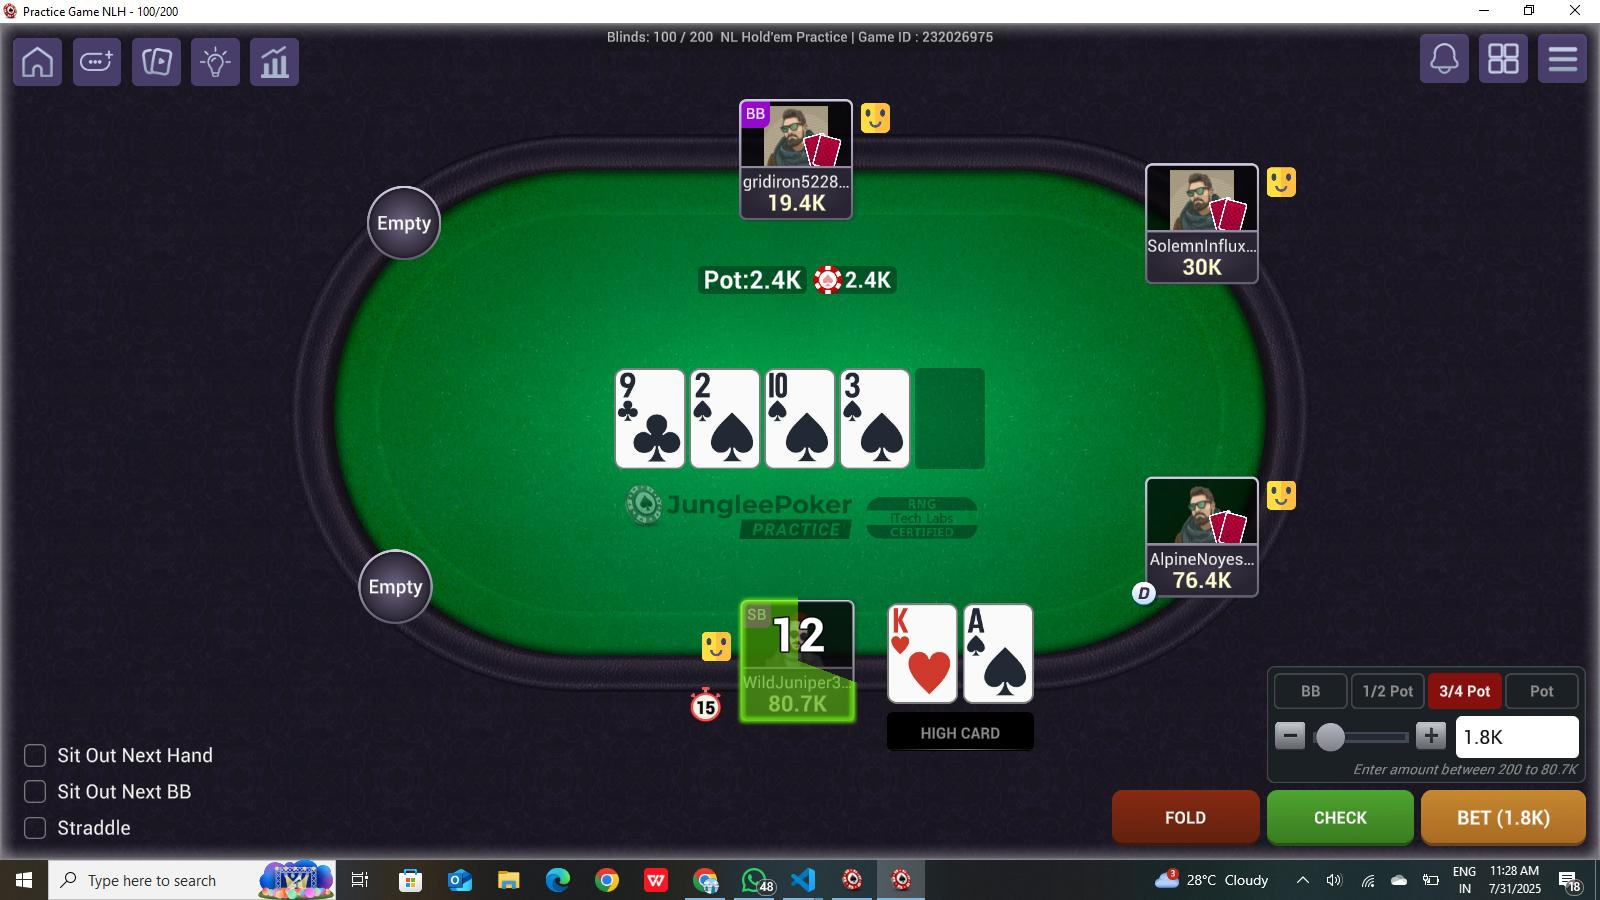button_bet: (1418, 786, 1589, 851)
button_check: (1268, 792, 1412, 851)
button_fold: (1110, 785, 1257, 848)
card1_rank: (886, 604, 952, 647)
card1_suite_heart: (900, 648, 956, 700)
card2_rank: (968, 602, 1026, 645)
card2_suite_spades: (980, 648, 1032, 707)
flop1_rank: (614, 368, 680, 410)
flop1_suite_club: (624, 413, 681, 466)
flop2_rank: (692, 370, 760, 409)
flop2_suite_spades: (710, 409, 756, 468)
flop3_rank: (764, 365, 824, 405)
flop3_suite_spades: (778, 401, 832, 468)
game_id: (854, 24, 999, 51)
iinput_field: (1456, 714, 1577, 762)
my_stack: (742, 692, 855, 715)
position_BB: (736, 102, 781, 132)
position_SB: (744, 597, 775, 631)
total_pot: (695, 258, 901, 297)
turn_rank: (842, 373, 895, 403)
turn_suite_spades: (856, 404, 907, 468)
villian3_name: (744, 165, 854, 195)
villian3_stack: (740, 185, 858, 222)
villian4_name: (1148, 229, 1258, 259)
villian4_stack: (1148, 253, 1257, 286)
villian5_name: (1140, 548, 1255, 576)
villian5_stack: (1149, 565, 1256, 596)
